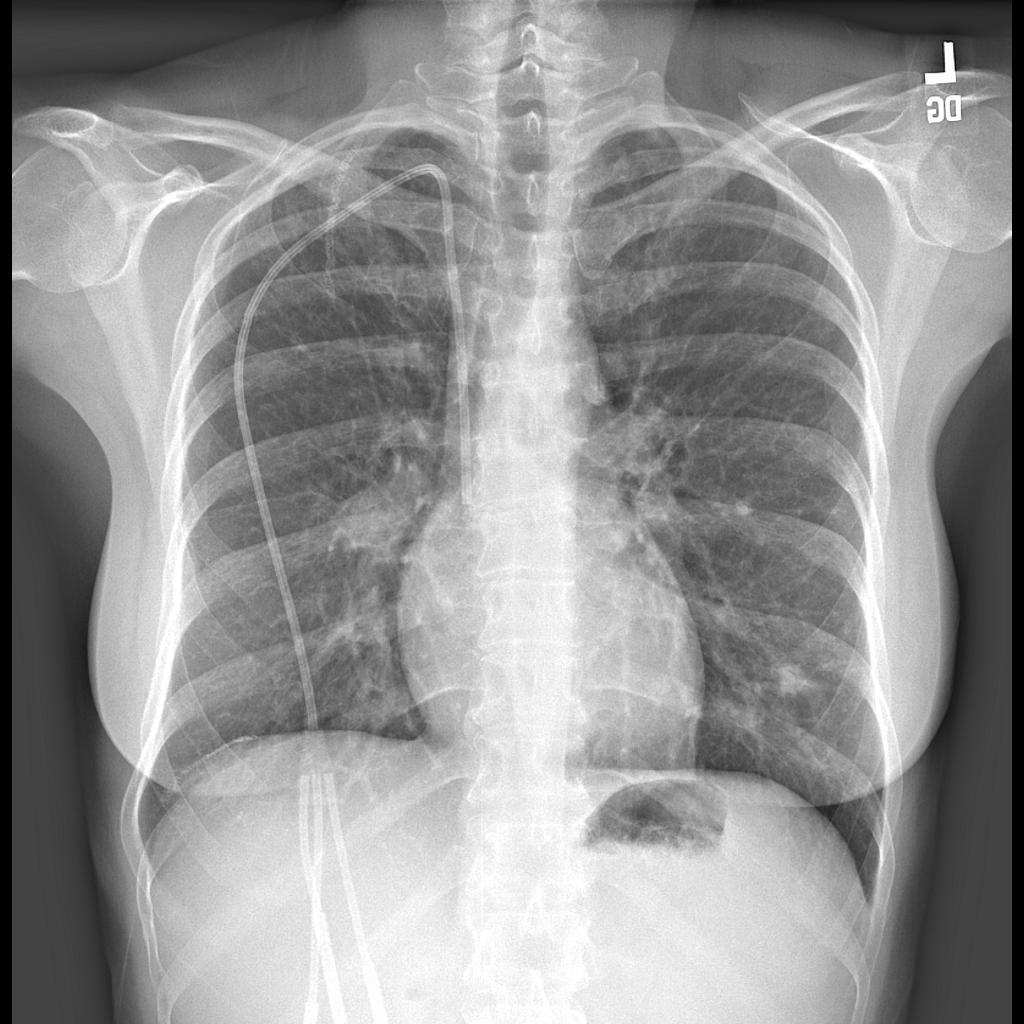Nodule: (325, 473, 418, 550), (767, 659, 819, 705)
